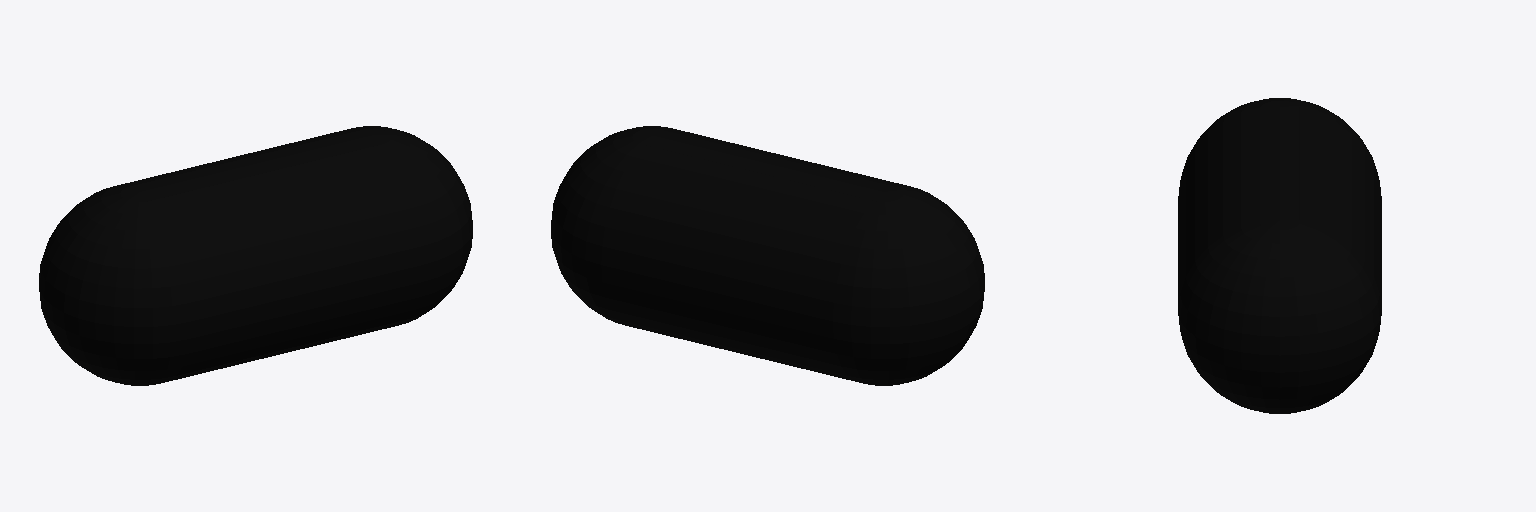
Rendered from standardAmmo.obj.
The picture shows the model from 3 angles: view 1: azimuth 30°, elevation 25°; view 2: azimuth 150°, elevation 25°; view 3: azimuth 270°, elevation 25°; orthographic projection.
Visible parts, largest first — view 1: Ammo_Sphere; view 2: Ammo_Sphere; view 3: Ammo_Sphere.
Boxes of the visible parts, x1,y1,x2,y2 form: Ammo_Sphere: [39, 126, 472, 385]; Ammo_Sphere: [551, 126, 984, 385]; Ammo_Sphere: [1178, 98, 1381, 413].
Size of the model in its own units: 2.03 by 0.8774 by 0.8774.